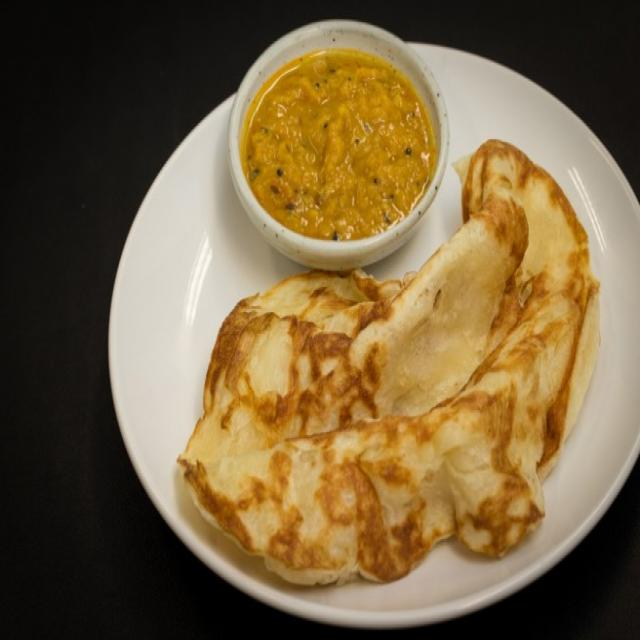Paratha: (204, 229, 580, 591)
